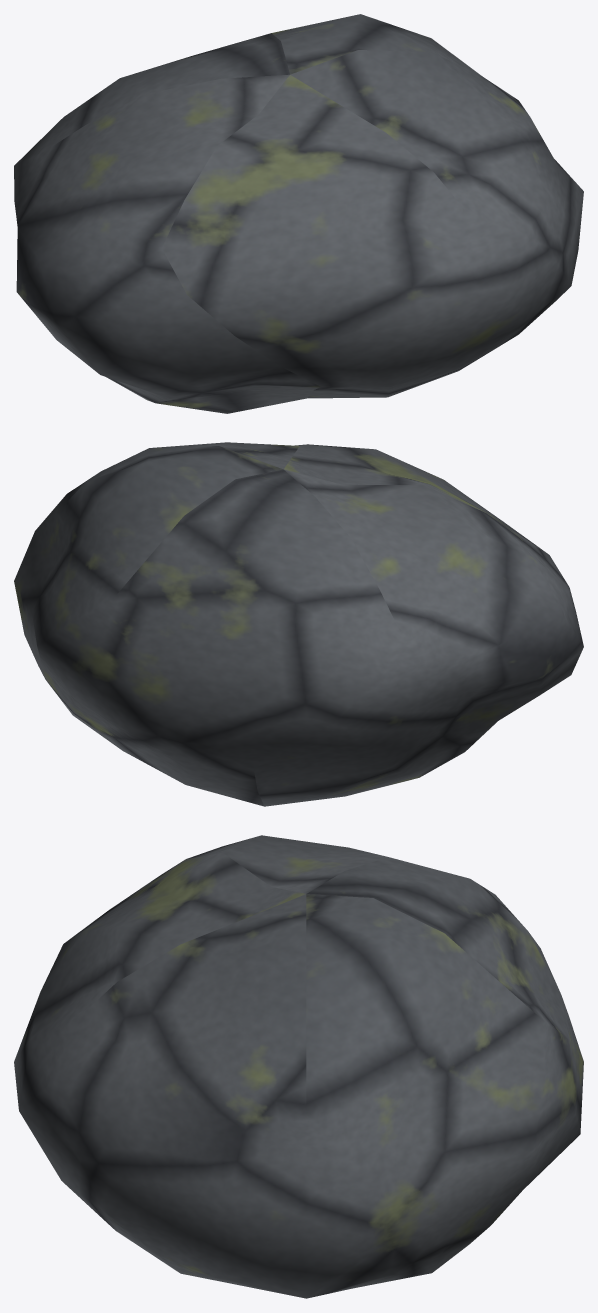
Rendered from detail_boulder.glb.
3 views of the same model, one above another, from view 1: azimuth 30°, elevation 25°; view 2: azimuth 150°, elevation 25°; view 3: azimuth 270°, elevation 25° (orthographic). The views are drawn at different scales.
Parts seen in each view (by area): view 1: Icosphere; view 2: Icosphere; view 3: Icosphere.
Boxes of the visible parts, box(x1,y1,x2,y2) form: Icosphere: box(14, 14, 583, 413); Icosphere: box(14, 442, 583, 806); Icosphere: box(14, 835, 583, 1298).
Bounding box in the file's own units: 3.33 × 1.93 × 2.73.
1 material, 1 textured.
